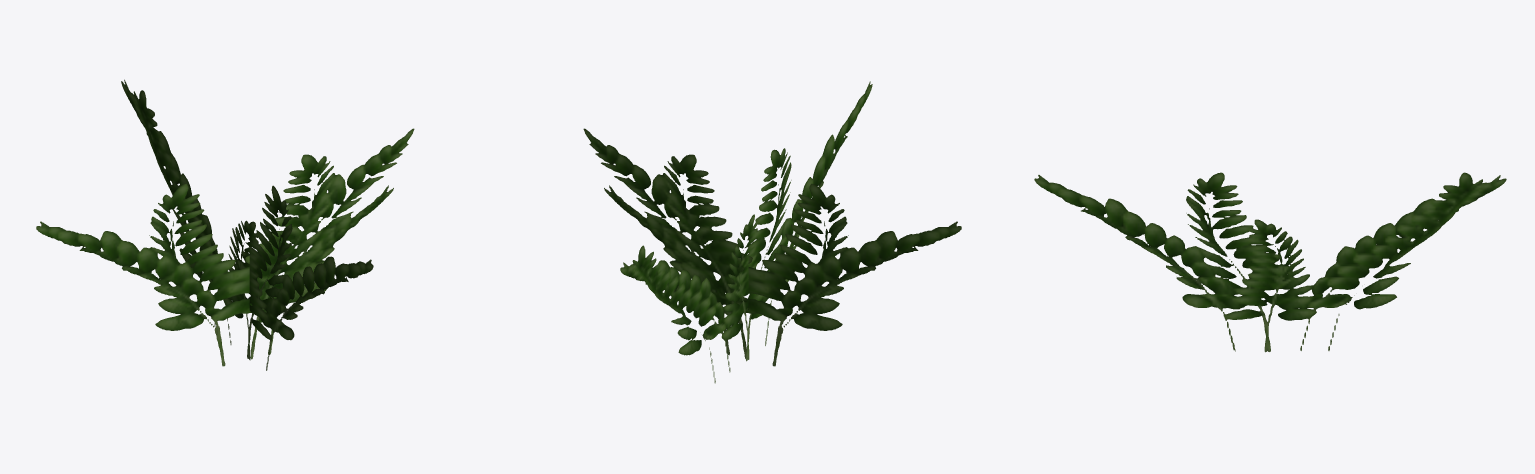
The picture shows the model from 3 angles, left to right: view 1: azimuth 30°, elevation 25°; view 2: azimuth 150°, elevation 25°; view 3: azimuth 270°, elevation 25°; orthographic projection. The views are drawn at different scales.
Parts seen in each view (by area): view 1: za_LOD2; view 2: za_LOD2; view 3: za_LOD2.
Part boxes in pixels (bbox=[...]): za_LOD2: bbox=[36, 79, 414, 370]; za_LOD2: bbox=[583, 81, 961, 383]; za_LOD2: bbox=[1034, 172, 1506, 352].
Size of the model in its own units: 1200 by 602 by 1200.
